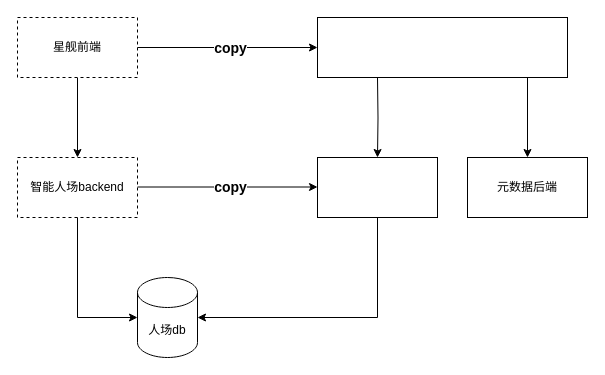
This 605x375 diagram has some shape labels left out. Here are the shapes that lost their labels. From the top down, the centre of each, then its label:
At (442,47): "画像中台前端".
At (377,187): "画像中台后端".
